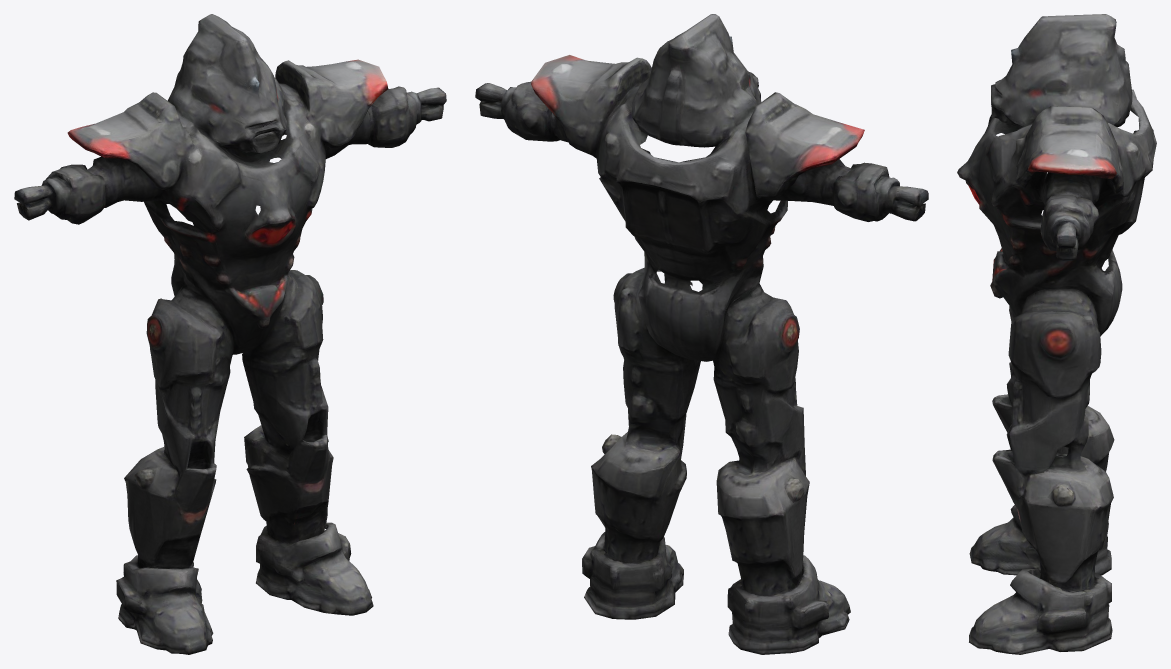
The model's file is warden.glb.
3 renders of one model, left to right at view 1: azimuth 30°, elevation 25°; view 2: azimuth 150°, elevation 25°; view 3: azimuth 270°, elevation 25°, orthographic. The views are drawn at different scales.
Parts seen in each view (by area): view 1: warden; view 2: warden; view 3: warden.
Boxes of the visible parts, left/top/right/bottom form: warden: left=14, top=14, right=446, bottom=654; warden: left=475, top=14, right=928, bottom=654; warden: left=957, top=14, right=1156, bottom=654.
Size of the model in its own units: 0.7794 by 0.9995 by 0.3098.
Materials: 1 (1 with a texture image).
